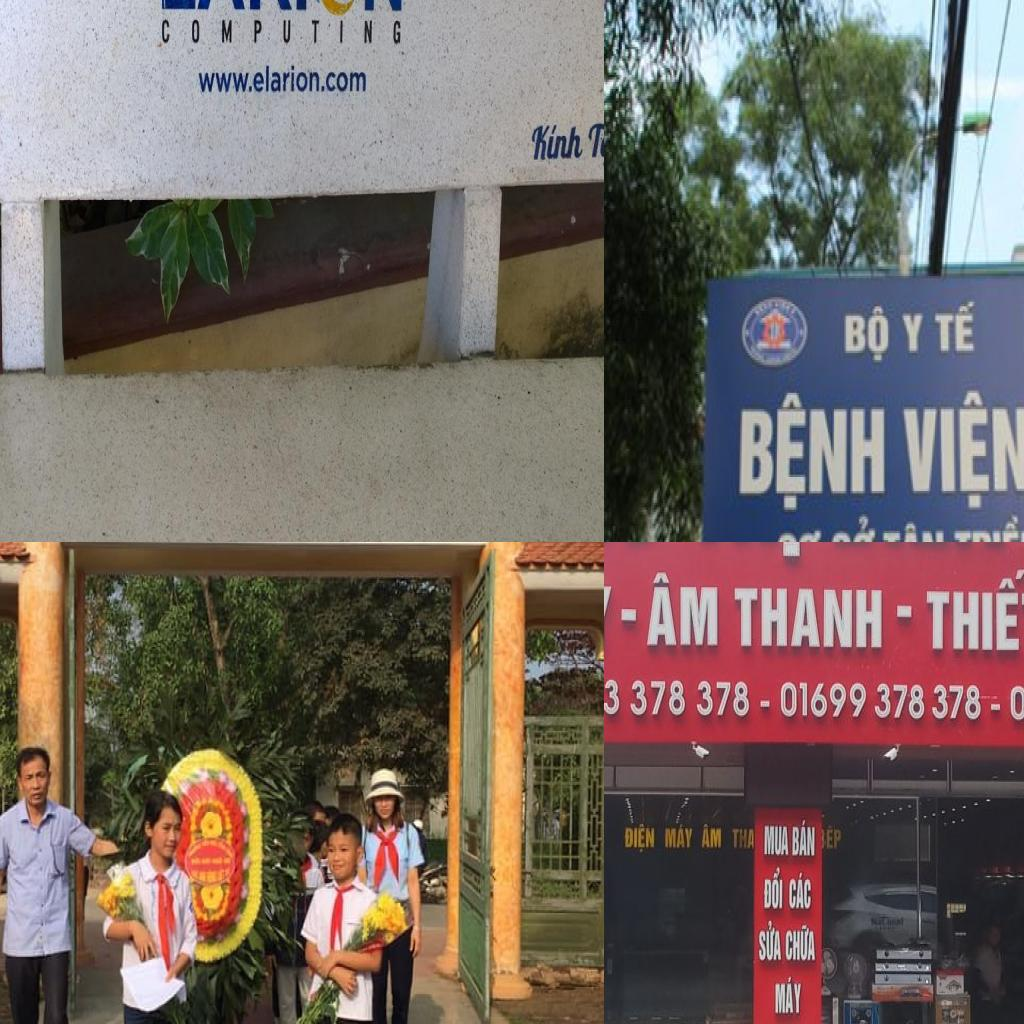text: (736, 386, 890, 512), (895, 390, 1024, 514), (733, 586, 884, 651), (779, 678, 983, 724), (923, 566, 1024, 655), (162, 17, 402, 46), (642, 569, 721, 650), (604, 678, 751, 719), (197, 62, 368, 96), (834, 297, 894, 367), (932, 297, 980, 355), (530, 123, 585, 163), (949, 514, 1024, 542), (880, 517, 946, 542), (825, 512, 879, 542), (773, 974, 805, 1016), (784, 924, 818, 963), (900, 309, 925, 360), (757, 918, 783, 965), (788, 870, 813, 912), (791, 818, 817, 858), (623, 823, 656, 854), (762, 866, 784, 912), (763, 823, 791, 858), (775, 523, 825, 542), (664, 823, 696, 851), (730, 826, 756, 852), (700, 823, 723, 851), (825, 823, 843, 851)
